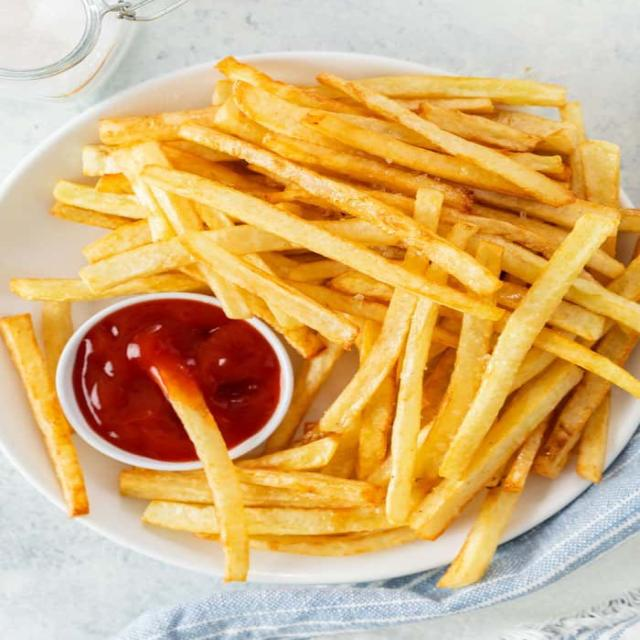potato fries: (0, 58, 639, 587), (144, 168, 501, 318), (181, 126, 496, 291), (440, 215, 617, 477), (319, 75, 574, 205), (410, 362, 582, 539), (152, 360, 248, 580), (0, 315, 88, 516), (266, 344, 342, 452), (576, 395, 609, 483), (43, 302, 73, 385)
